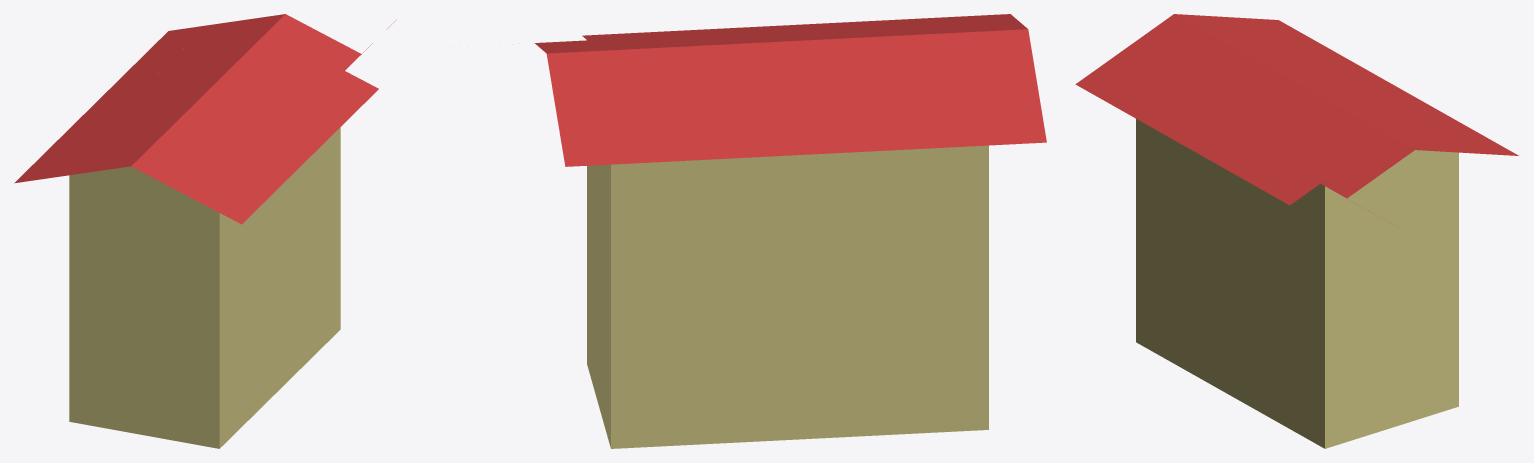
3 views of the same model, side by side, from view 1: azimuth 30°, elevation 25°; view 2: azimuth 150°, elevation 25°; view 3: azimuth 270°, elevation 25° (orthographic). The views are drawn at different scales.
Bounding box in the file's own units: 12.1 × 10.26 × 7.47.
